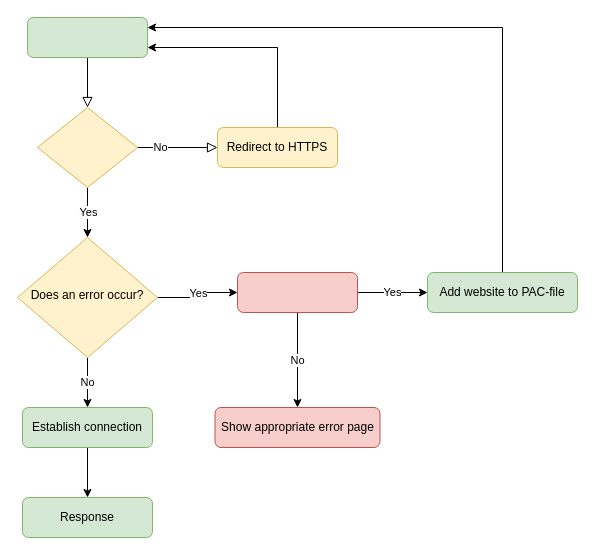
Image size: 595x555. Some labels were removed from this diagram. Each missing label, with the box of its shape:
Is HTTPS?: (36, 106, 138, 188)
Is it connection error: (236, 272, 358, 312)
Request: (26, 16, 148, 58)
